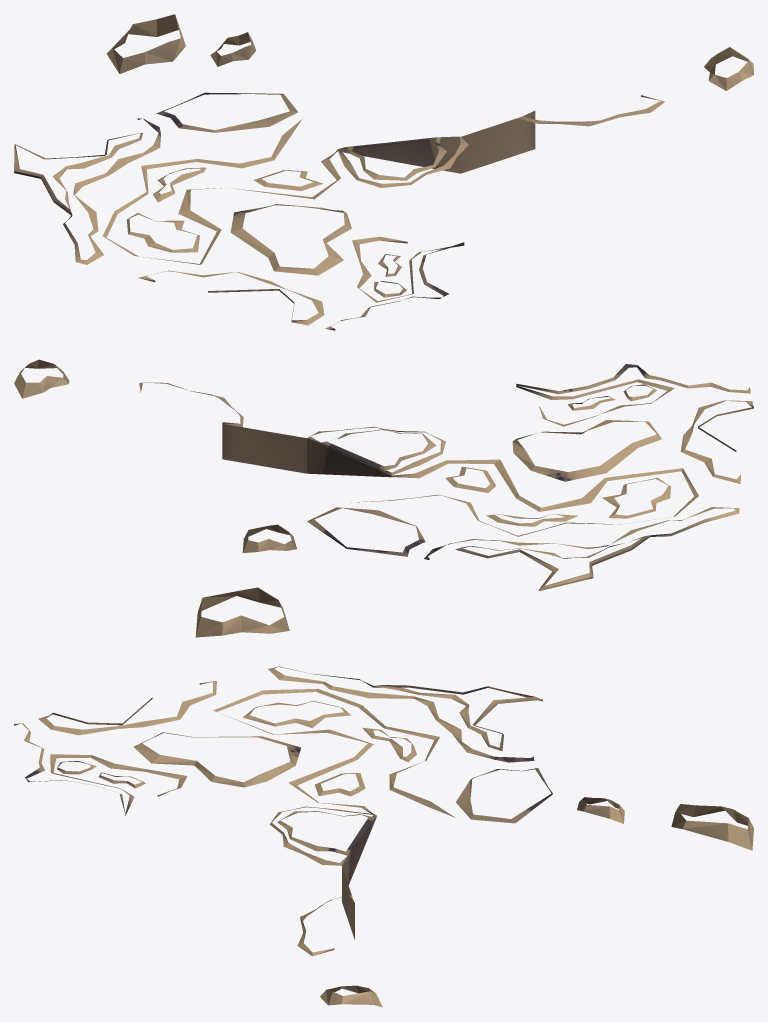
Rendered from Ground_02.FBX.
3 views of the same model, one above another, from view 1: azimuth 30°, elevation 25°; view 2: azimuth 150°, elevation 25°; view 3: azimuth 270°, elevation 25° (orthographic). The views are drawn at different scales.
Parts seen in each view (by area): view 1: Ground_02; view 2: Ground_02; view 3: Ground_02.
Boxes of the visible parts, x1=… form: Ground_02: x1=14, y1=14, x2=753, y2=330; Ground_02: x1=14, y1=359, x2=753, y2=637; Ground_02: x1=14, y1=666, x2=753, y2=1007.
Size of the model in its own units: 41.84 by 3.4 by 38.55.
